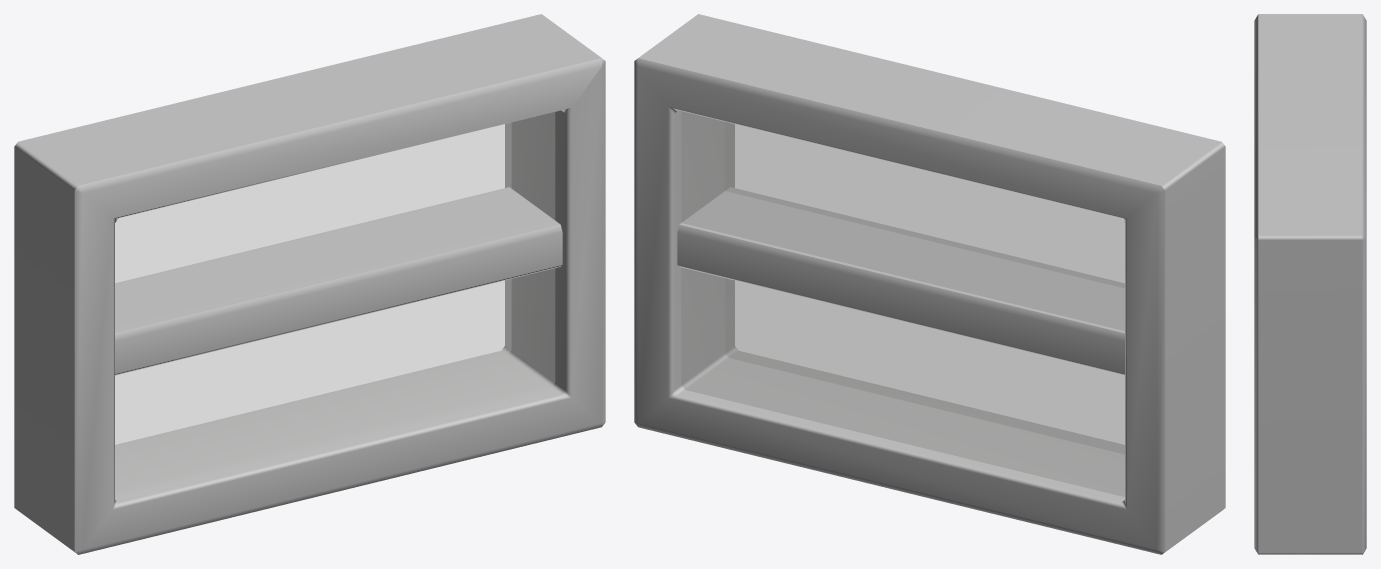
File: Window_29.fbx
3 renders of one model, left to right at view 1: azimuth 30°, elevation 25°; view 2: azimuth 150°, elevation 25°; view 3: azimuth 270°, elevation 25°, orthographic. The views are drawn at different scales.
Parts seen in each view (by area): view 1: Window_29; view 2: Window_29; view 3: Window_29.
Part boxes in pixels (x1=…): Window_29: x1=14, y1=14, x2=605, y2=554; Window_29: x1=634, y1=14, x2=1225, y2=554; Window_29: x1=1254, y1=14, x2=1366, y2=554.
Bounding box in the file's own units: 265 × 176 × 55.95.
